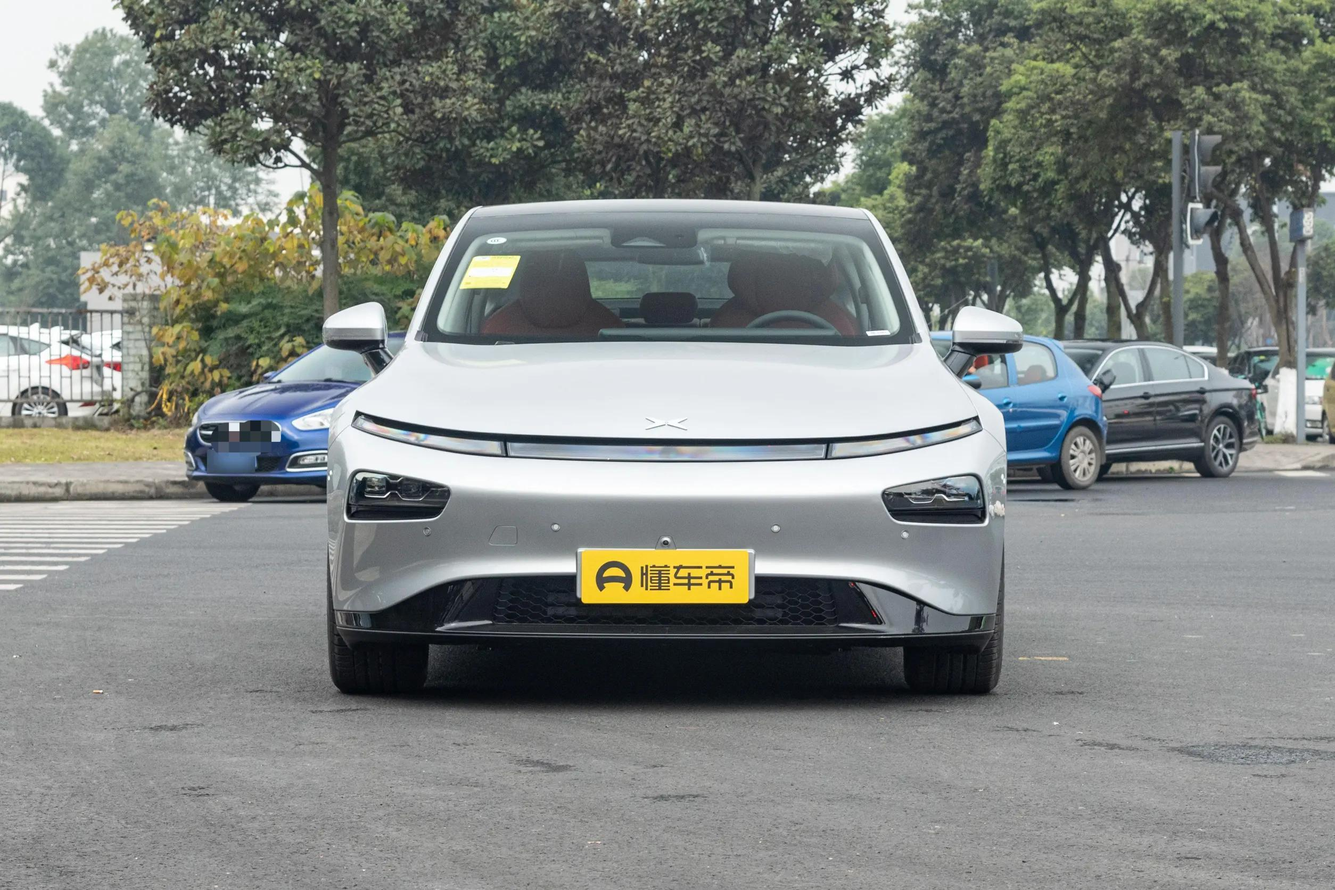XPeng Motors: (645, 417, 688, 430)
